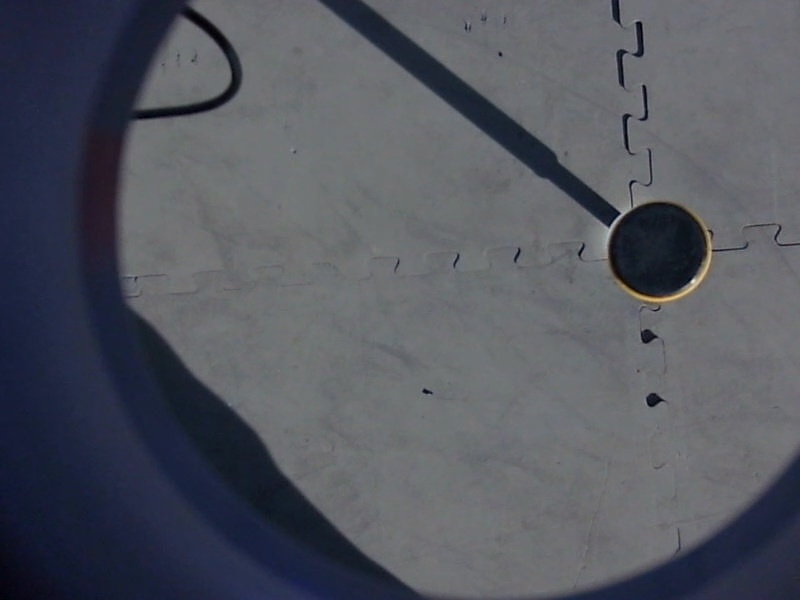tip: (602, 193, 718, 309)
